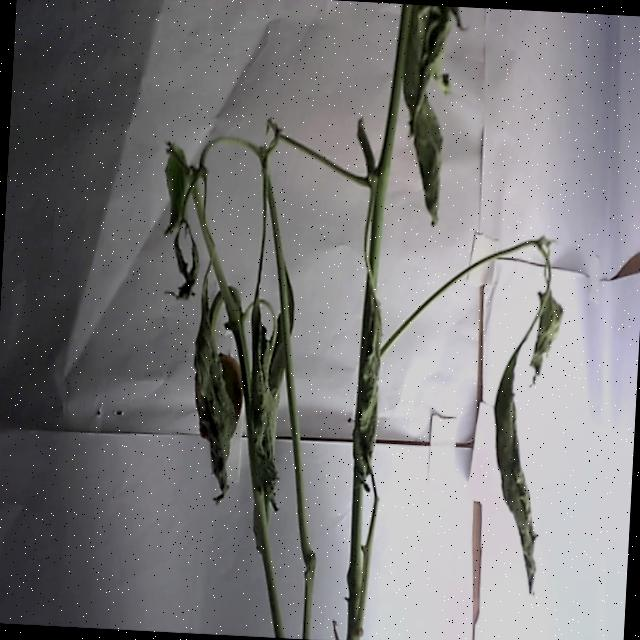Leaf: (184, 266, 250, 502), (484, 360, 548, 598), (238, 292, 292, 510), (156, 142, 208, 300), (405, 4, 467, 113), (350, 300, 384, 490), (406, 90, 446, 226), (527, 284, 564, 386)
